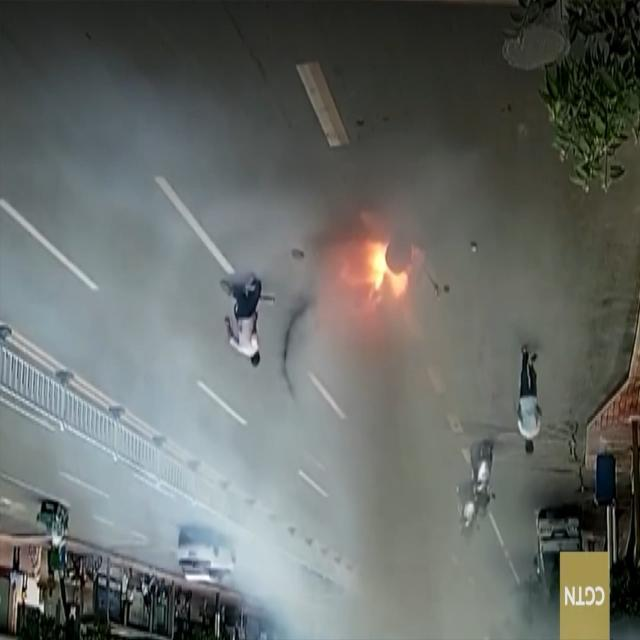fire: (336, 224, 424, 326)
